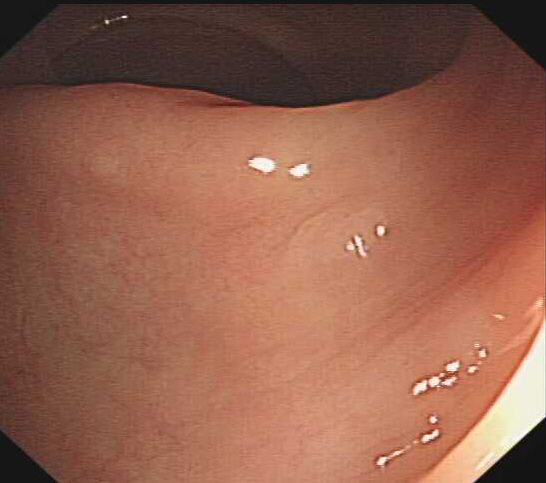others: (283, 202, 387, 263)
